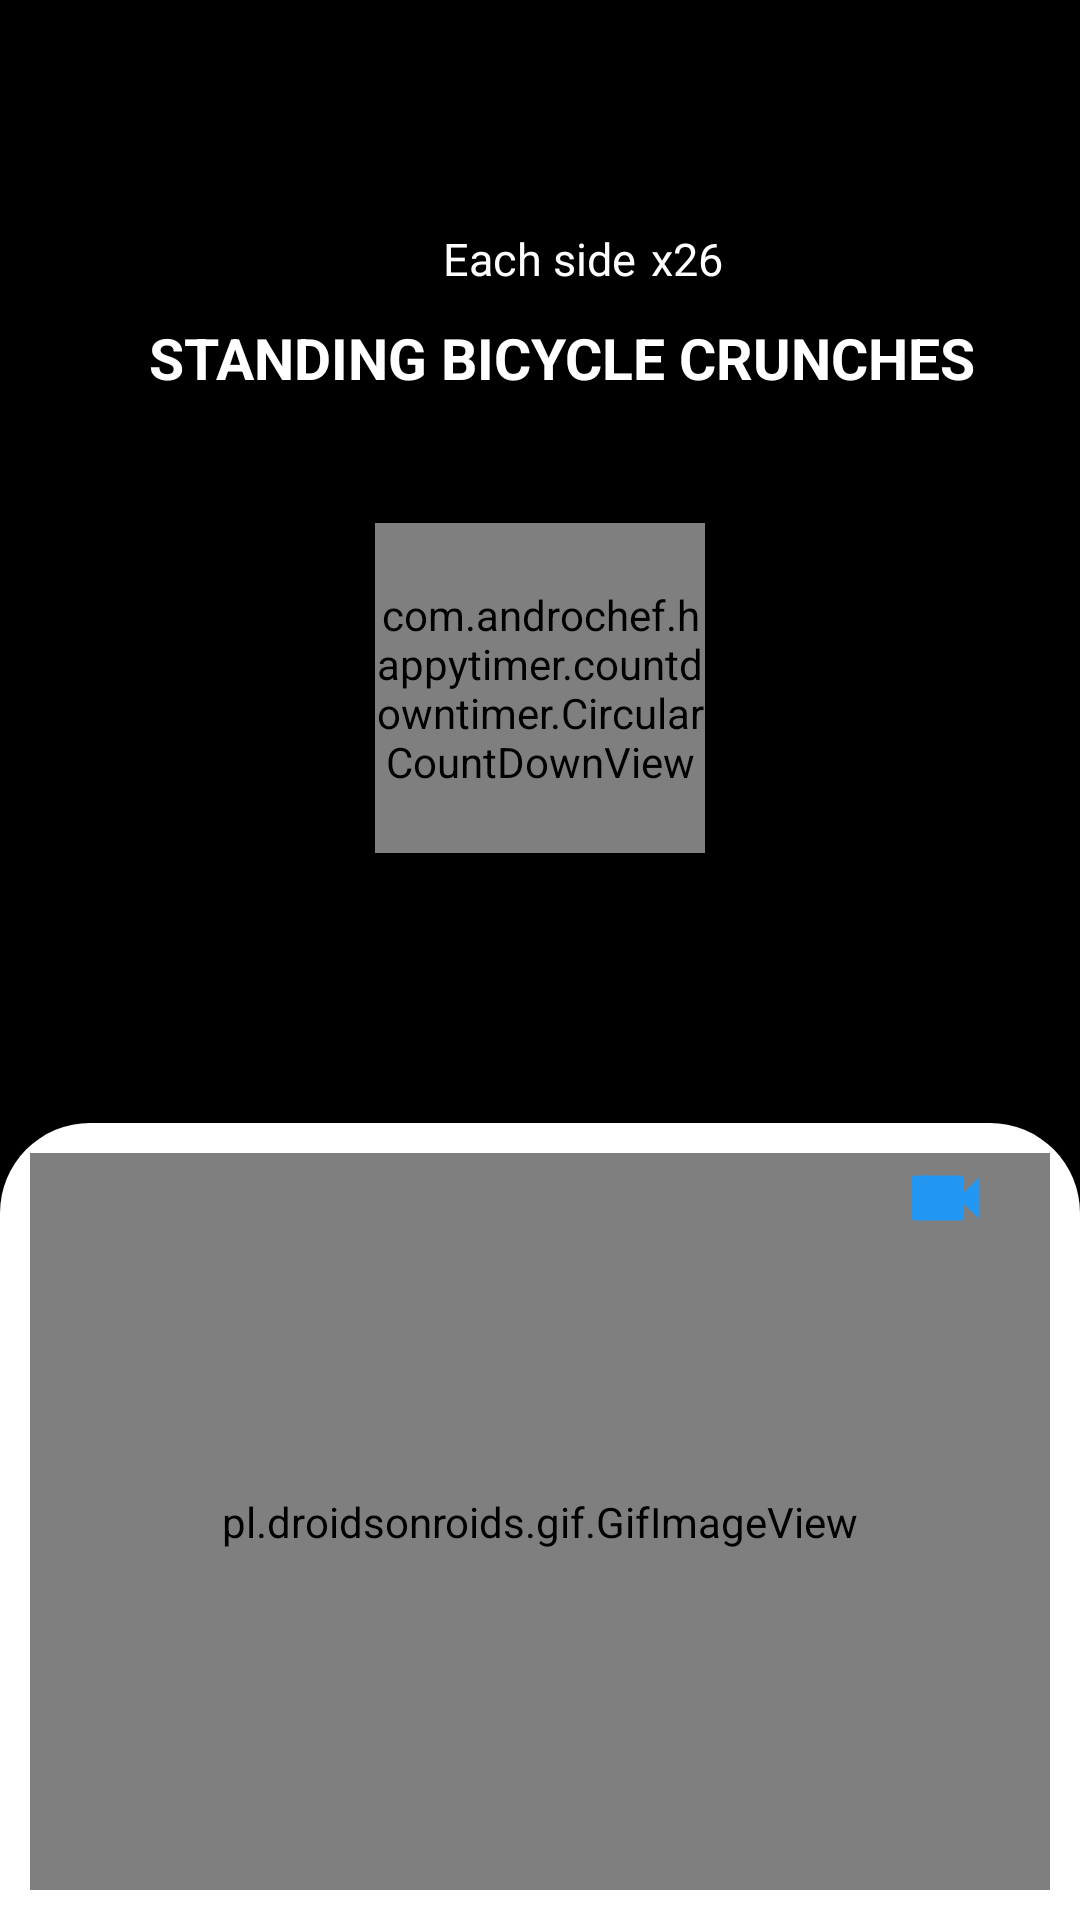

Icons on this 1080px x 1920px Android screen, each with the point to tap as point (x, y):
videocam: point (945, 1198)
